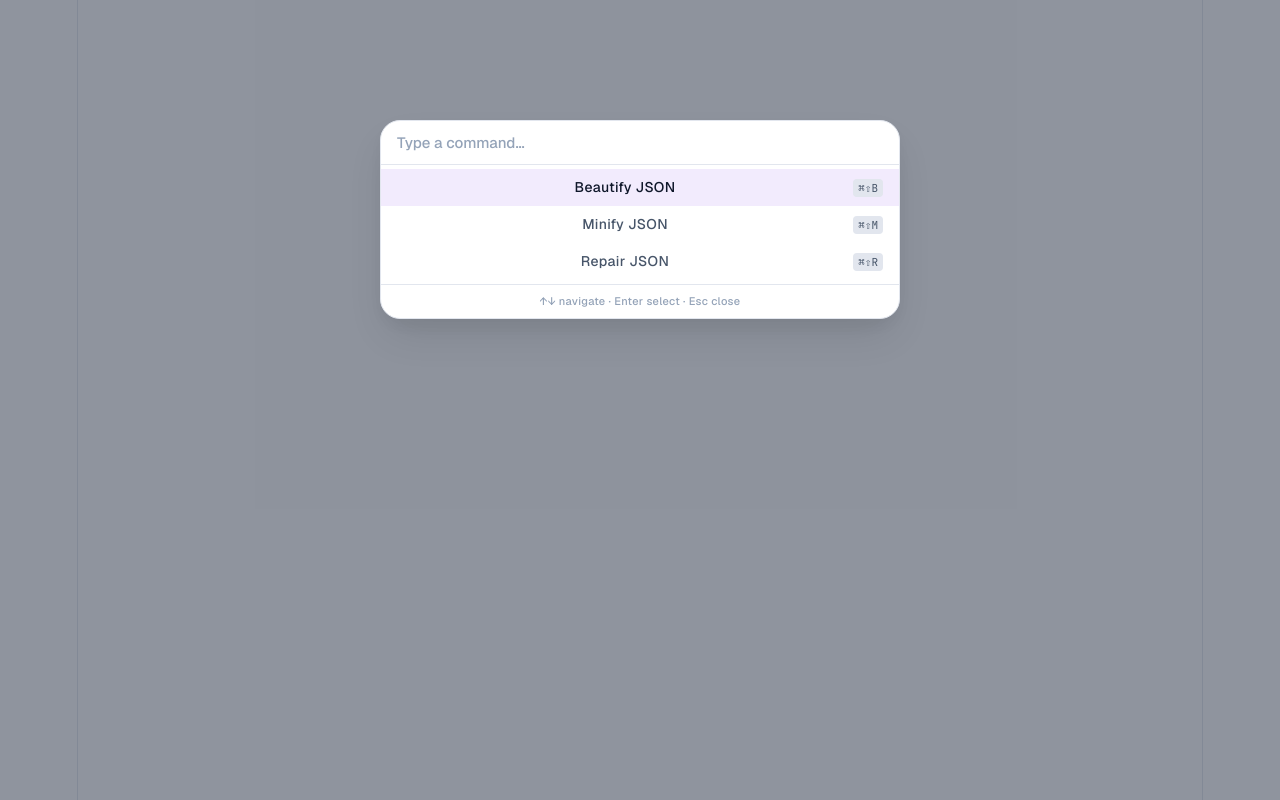
CommandPalette — fuzzy search › typing 'bea' shows only Beautify JSON
This screenshot has width=1280, height=800.
Type "bea" into the field named "Search commands" at (640, 143), box [381, 121, 899, 165]
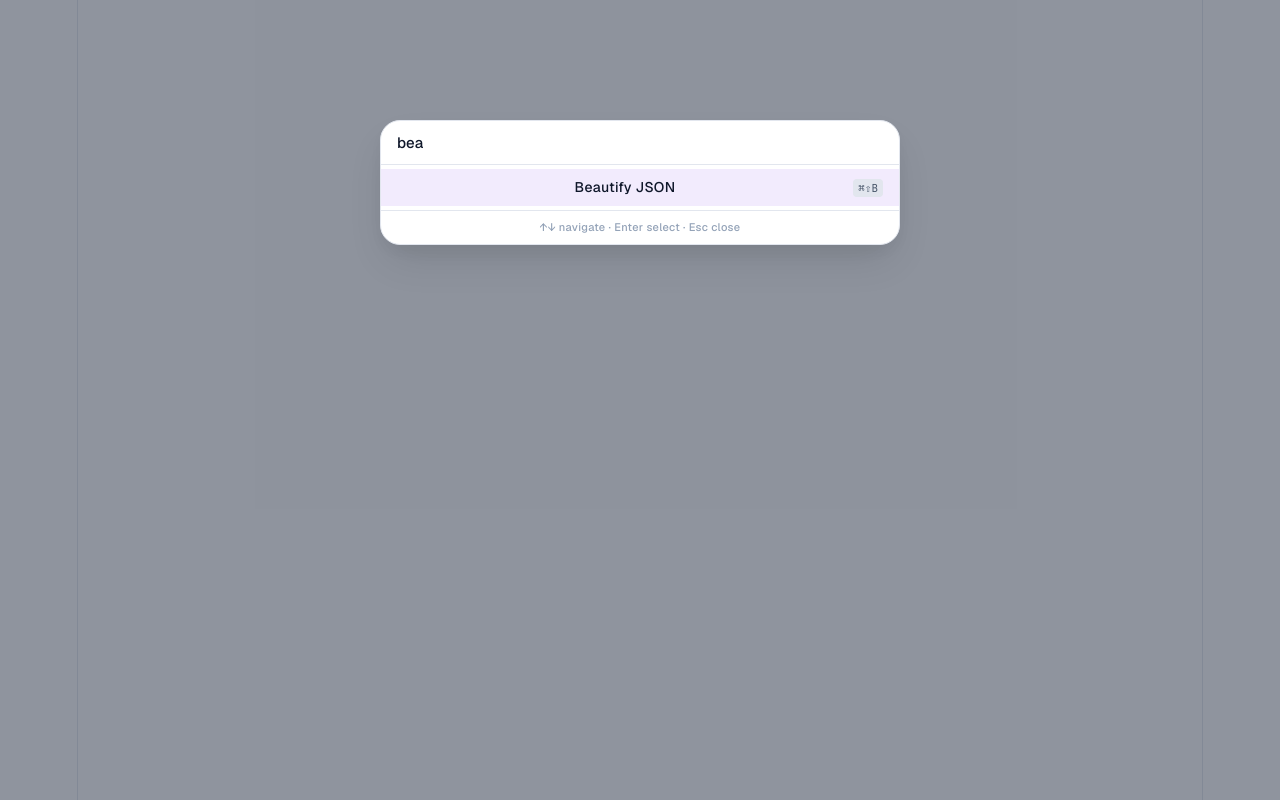
Expected: the text "Beautify JSON" is shown, [574, 178, 676, 196]
Expected: the option "Minify JSON" is gone
